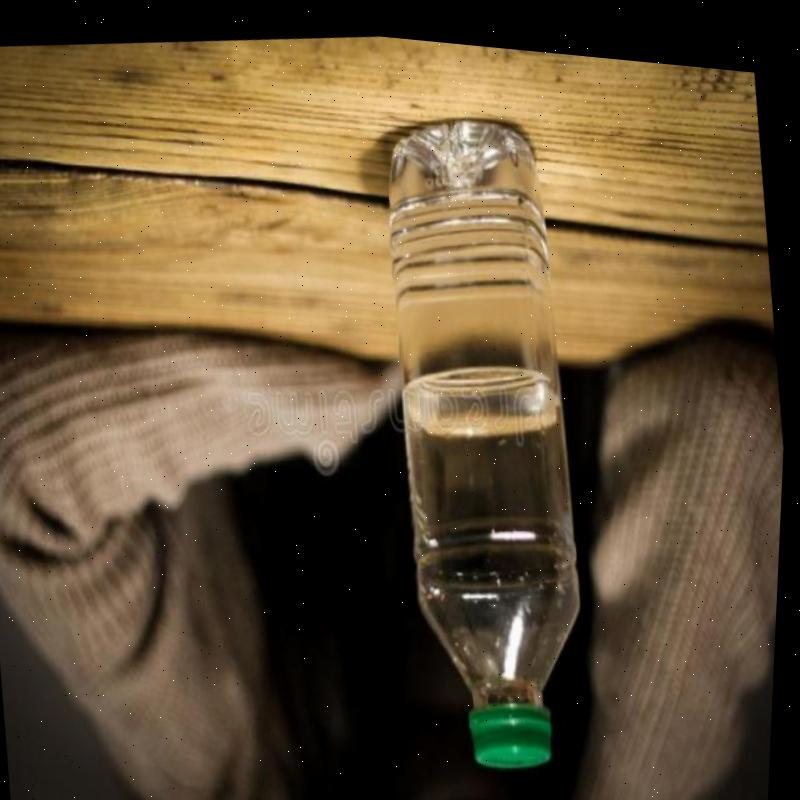botella: (351, 92, 622, 774)
